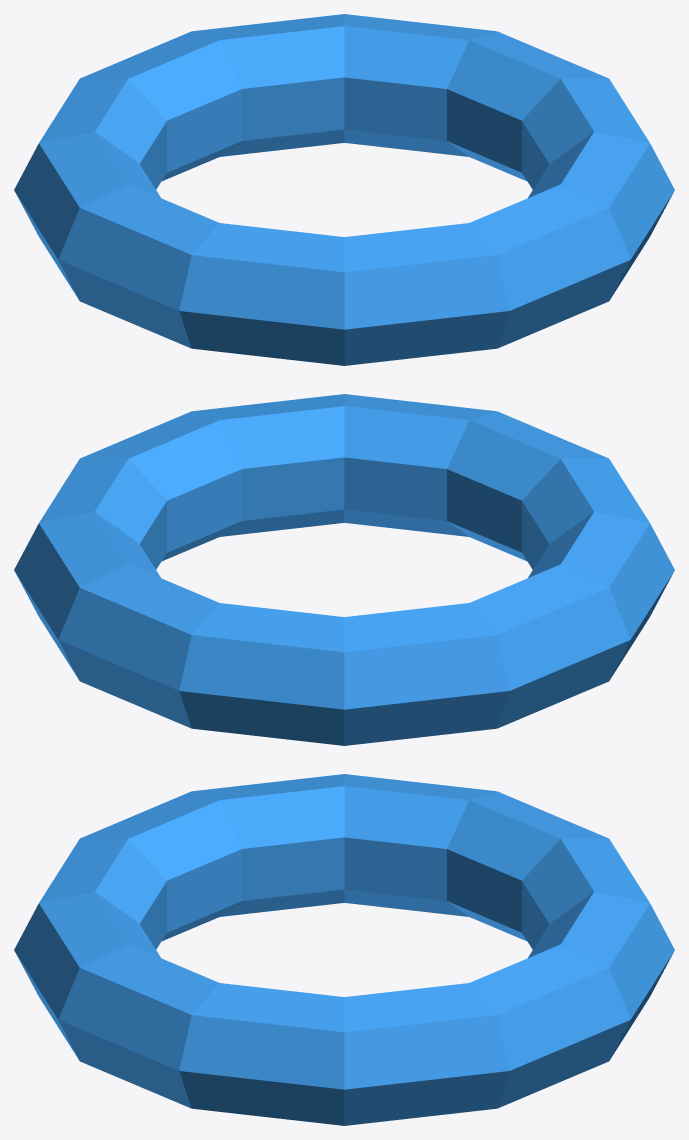
Rendered from Rosquinha.fbx.
3 views of the same model, one above another, from view 1: azimuth 30°, elevation 25°; view 2: azimuth 150°, elevation 25°; view 3: azimuth 270°, elevation 25° (orthographic).
Visible parts, largest first — view 1: Torus; view 2: Torus; view 3: Torus.
Boxes of the visible parts, left/top/right/bottom form: Torus: left=14, top=14, right=674, bottom=365; Torus: left=14, top=394, right=674, bottom=745; Torus: left=14, top=774, right=674, bottom=1125.
Size of the model in its own units: 36.69 by 7.15 by 36.69.
